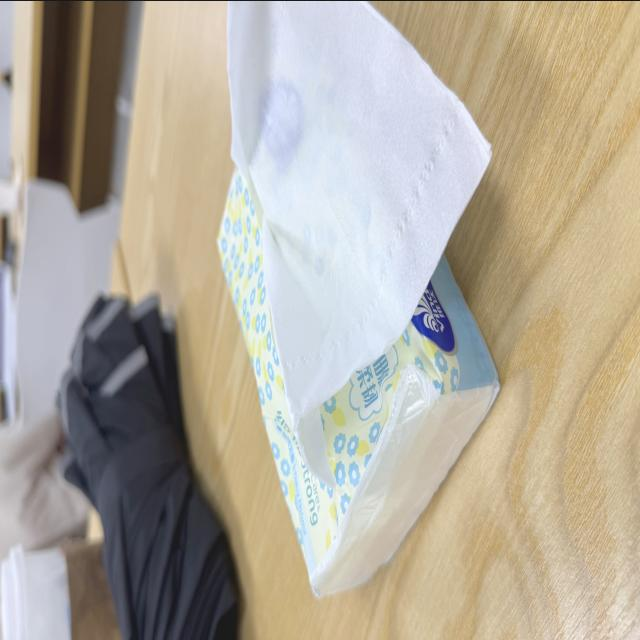tissue: (229, 1, 490, 480), (219, 171, 498, 594)
